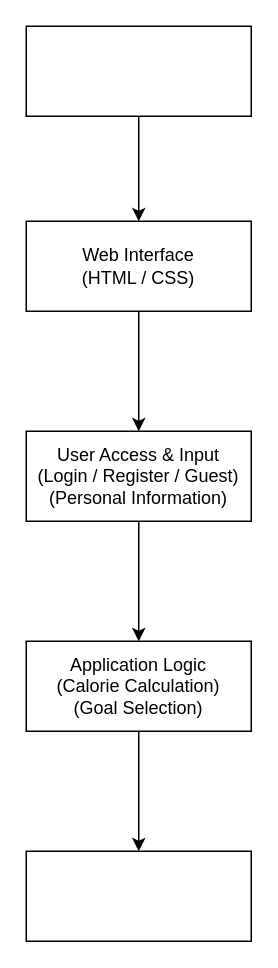
Image size: 278x968. Some labels were removed from this diagram. Each missing label, with the centre of its shape:
"Results Display" belongs at (138,895).
"User" belongs at (138,70).
